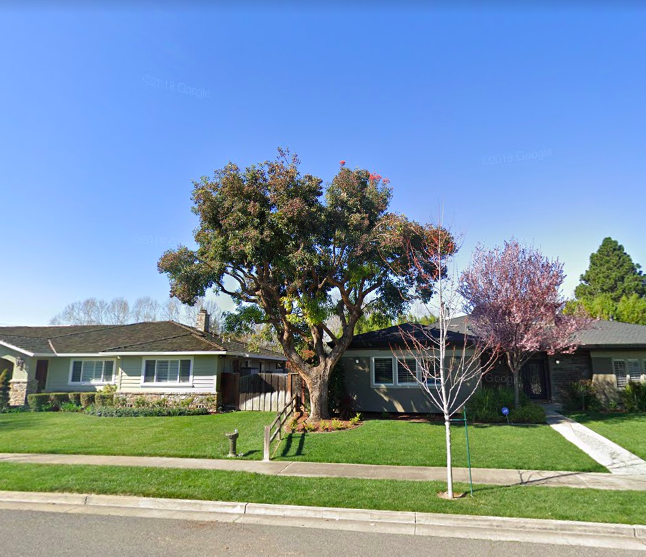tree: (157, 144, 459, 420)
